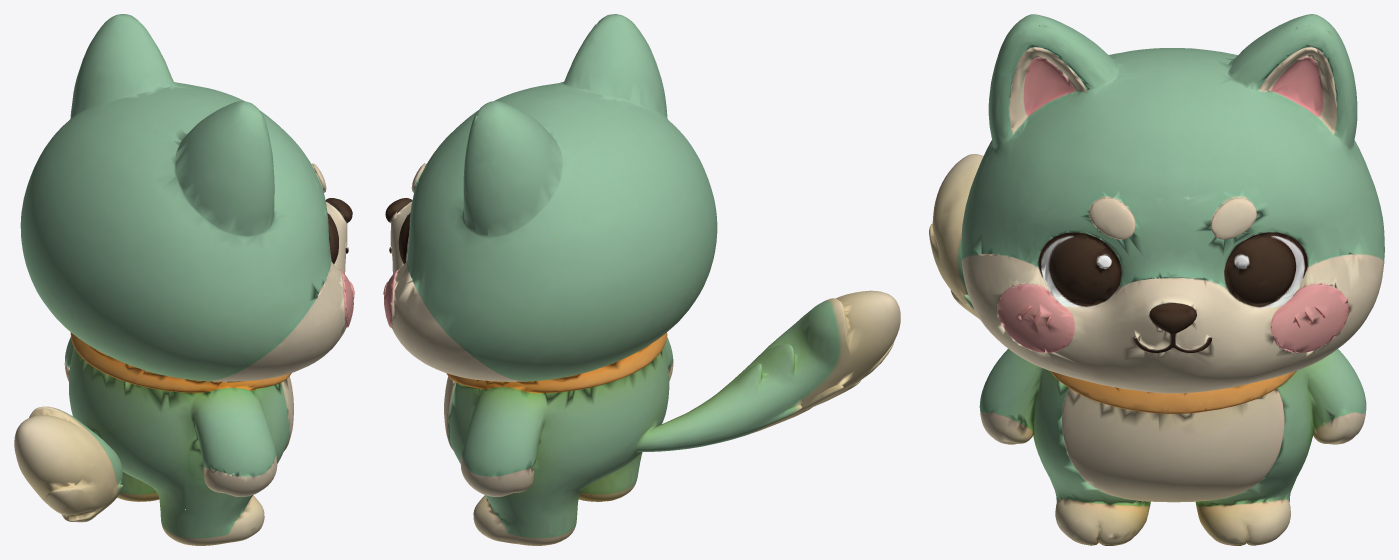
The picture shows the model from 3 angles, left to right: view 1: azimuth 30°, elevation 25°; view 2: azimuth 150°, elevation 25°; view 3: azimuth 270°, elevation 25°; orthographic projection. The views are drawn at different scales.
Visible parts, largest first — view 1: tripo_node_b05df4a4-211b-4fb2-a550-3fc3110d6220_AnimatedRoot; view 2: tripo_node_b05df4a4-211b-4fb2-a550-3fc3110d6220_AnimatedRoot; view 3: tripo_node_b05df4a4-211b-4fb2-a550-3fc3110d6220_AnimatedRoot.
Part boxes in pixels (bbox=[...]): tripo_node_b05df4a4-211b-4fb2-a550-3fc3110d6220_AnimatedRoot: bbox=[14, 14, 354, 545]; tripo_node_b05df4a4-211b-4fb2-a550-3fc3110d6220_AnimatedRoot: bbox=[383, 14, 900, 545]; tripo_node_b05df4a4-211b-4fb2-a550-3fc3110d6220_AnimatedRoot: bbox=[929, 14, 1384, 545].
Bounding box in the file's own units: 0.1956 × 0.2 × 0.1623.
Materials: 1 (1 with a texture image).
